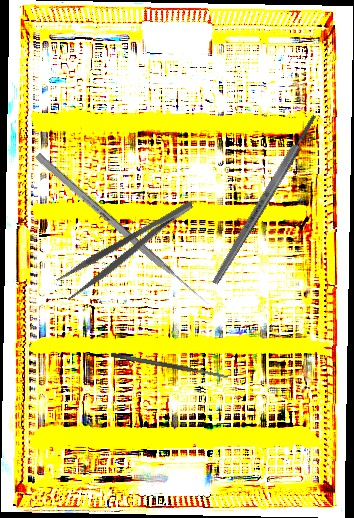Dressing Forceps: (54, 197, 203, 302)
Pusher: (34, 152, 211, 308)
Scalpel Handle: (209, 113, 320, 286)
Spatula Surgical: (110, 351, 229, 381)
